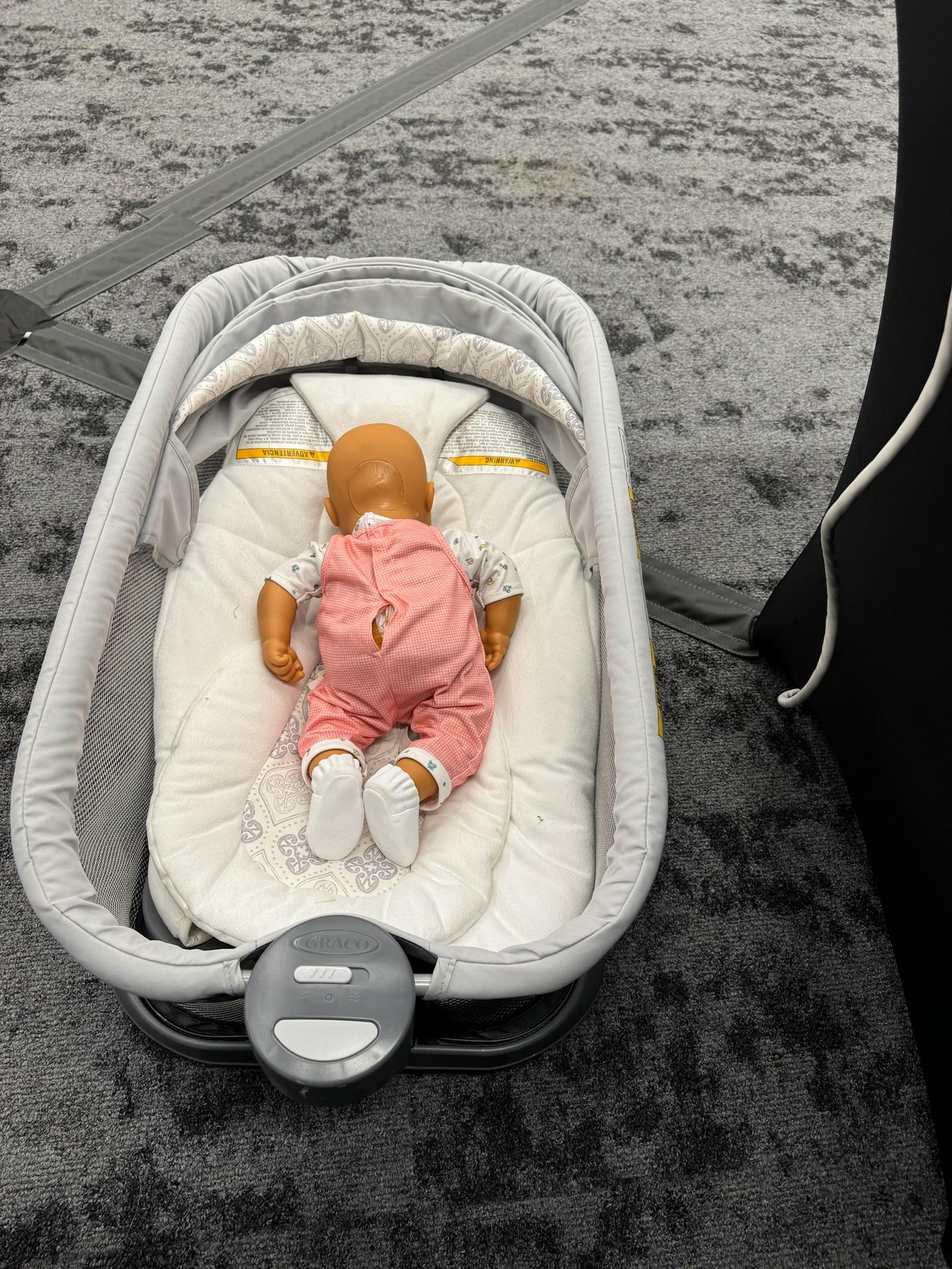baby: (256, 419, 523, 862)
